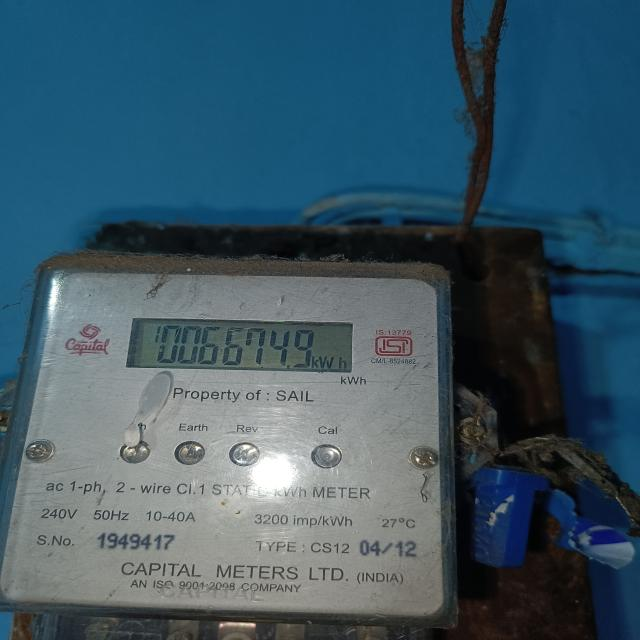display: (121, 312, 365, 382)
